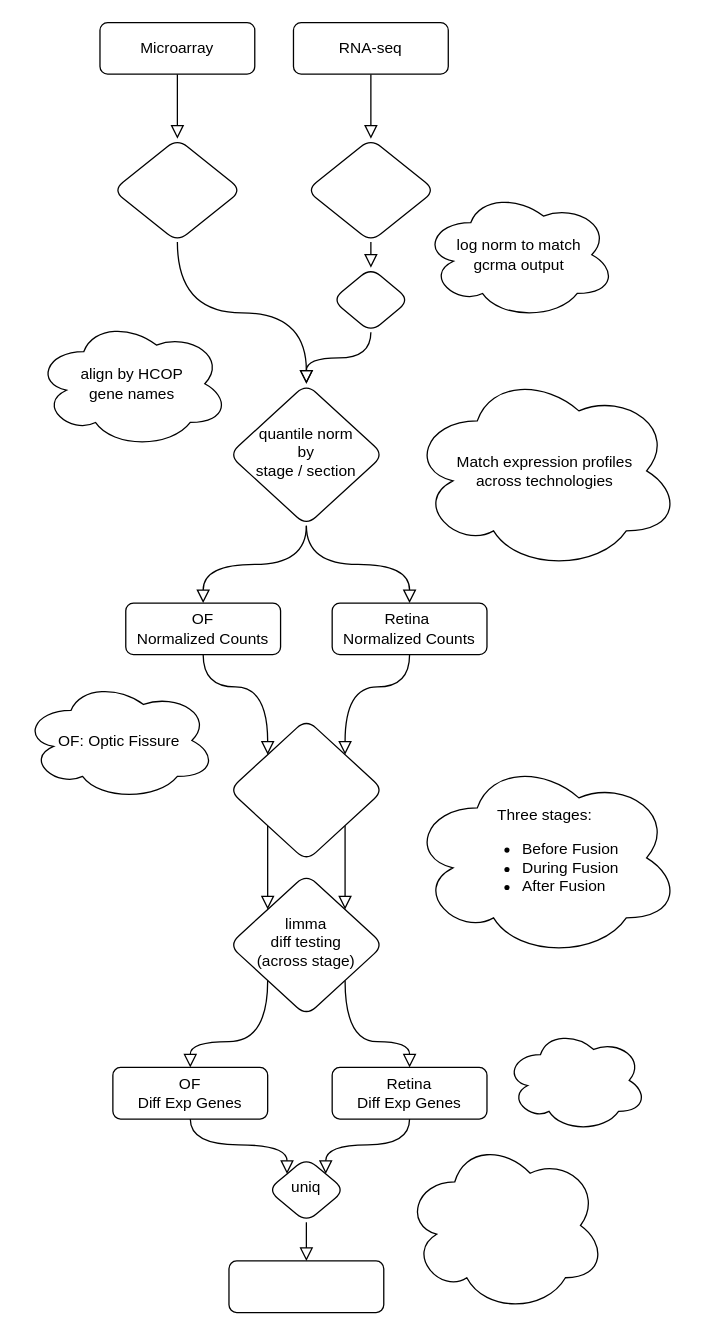
This 703x1335 diagram has some shape labels left out. Each missing label, with the box of its shape:
affy / gcrma: (112, 137, 242, 242)
FDR < 0.05: (504, 1027, 647, 1132)
log2: (331, 266, 410, 332)
OF Pan-Species Enriched Diff Genes: (228, 1260, 384, 1313)
Remove genes globally involved in retina differentiation: (403, 1137, 606, 1313)
salmon / TPM: (305, 137, 435, 242)
sva batch correction: (228, 718, 384, 861)
